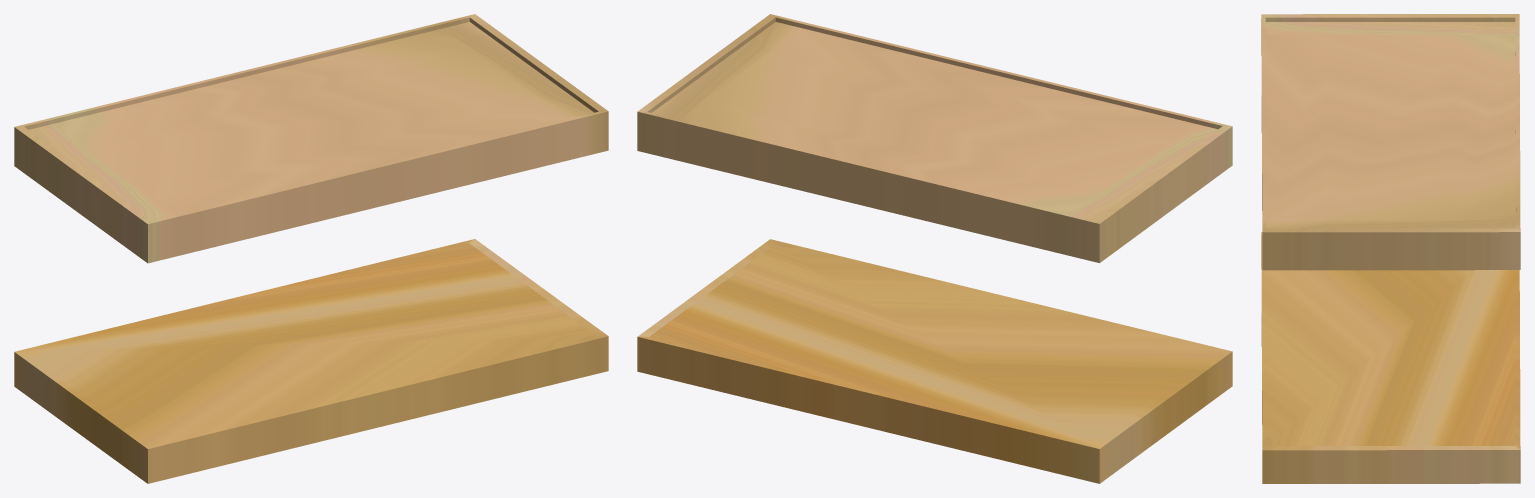
File: Caja.obj
The picture shows the model from 3 angles, left to right: view 1: azimuth 30°, elevation 25°; view 2: azimuth 150°, elevation 25°; view 3: azimuth 270°, elevation 25°; orthographic projection. The views are drawn at different scales.
Visible parts, largest first — view 1: polySurface1; view 2: polySurface1; view 3: polySurface1.
Part boxes in pixels (box(x1,y1,x2,y2)): polySurface1: box(14, 14, 608, 483); polySurface1: box(637, 14, 1232, 483); polySurface1: box(1261, 14, 1520, 483).
Bounding box in the file's own units: 1.43 × 0.77 × 0.7183.
1 material, 1 textured.
